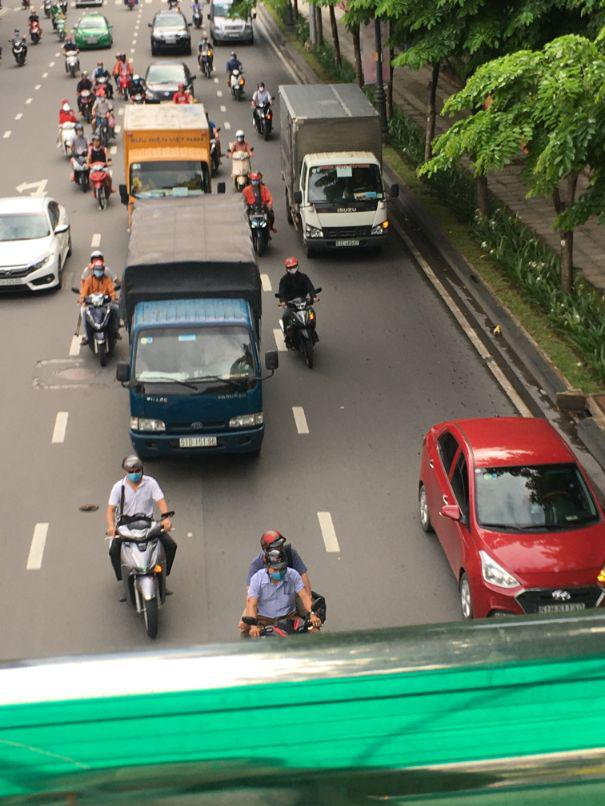car: (417, 413, 605, 618), (0, 189, 76, 297), (149, 12, 190, 57), (142, 63, 188, 103), (73, 15, 113, 50)
motorbike: (111, 515, 176, 638), (79, 296, 121, 366), (280, 298, 320, 369), (247, 201, 275, 259), (90, 163, 113, 214)
truck: (124, 194, 268, 461), (281, 85, 391, 256), (121, 103, 219, 209)
